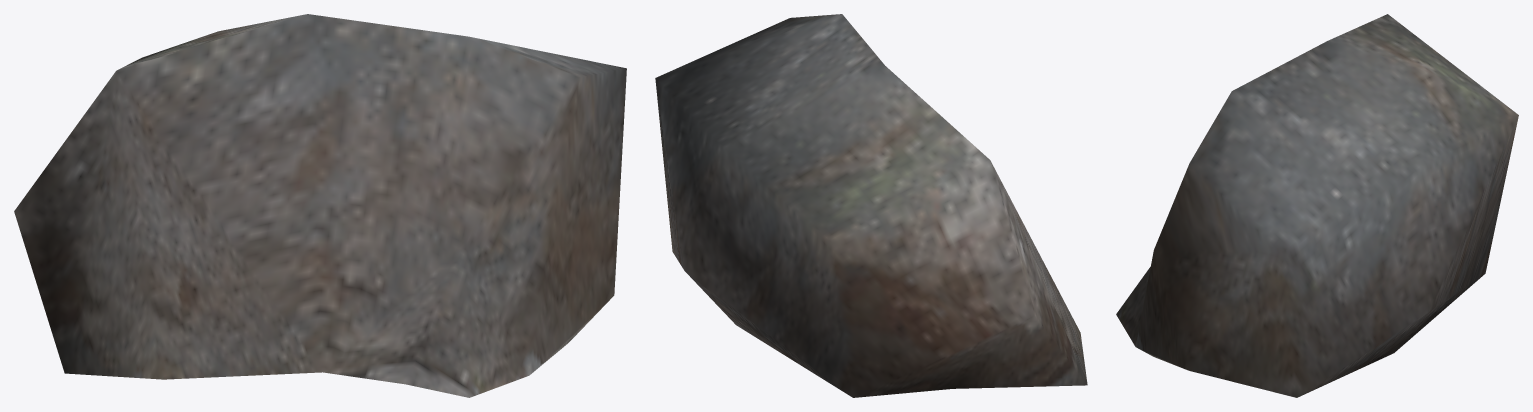
The model's file is forest_rock_05.glb.
3 views of the same model, side by side, from view 1: azimuth 30°, elevation 25°; view 2: azimuth 150°, elevation 25°; view 3: azimuth 270°, elevation 25° (orthographic). The views are drawn at different scales.
Parts seen in each view (by area): view 1: Rocks.004_Rocks_0; view 2: Rocks.004_Rocks_0; view 3: Rocks.004_Rocks_0.
Part boxes in pixels (x1,y1,x2,y2): Rocks.004_Rocks_0: [14, 14, 626, 397]; Rocks.004_Rocks_0: [655, 14, 1087, 397]; Rocks.004_Rocks_0: [1116, 14, 1518, 397].
Size of the model in its own units: 0.9962 by 0.55 by 0.7704.
1 material, 1 textured.
